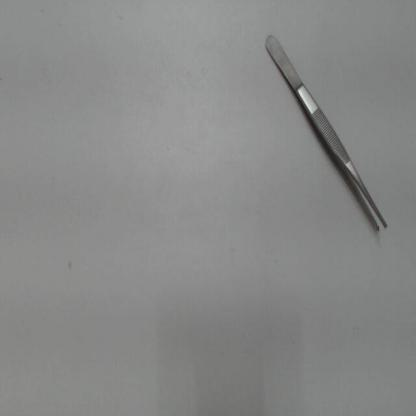Gillies Toothed Dissector: (255, 19, 399, 244)
